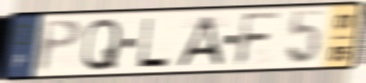5: (286, 8, 325, 67)
A: (174, 14, 225, 69)
F: (232, 10, 284, 69)
L: (135, 15, 172, 69)
P: (35, 17, 85, 75)
Q: (80, 16, 123, 73)
